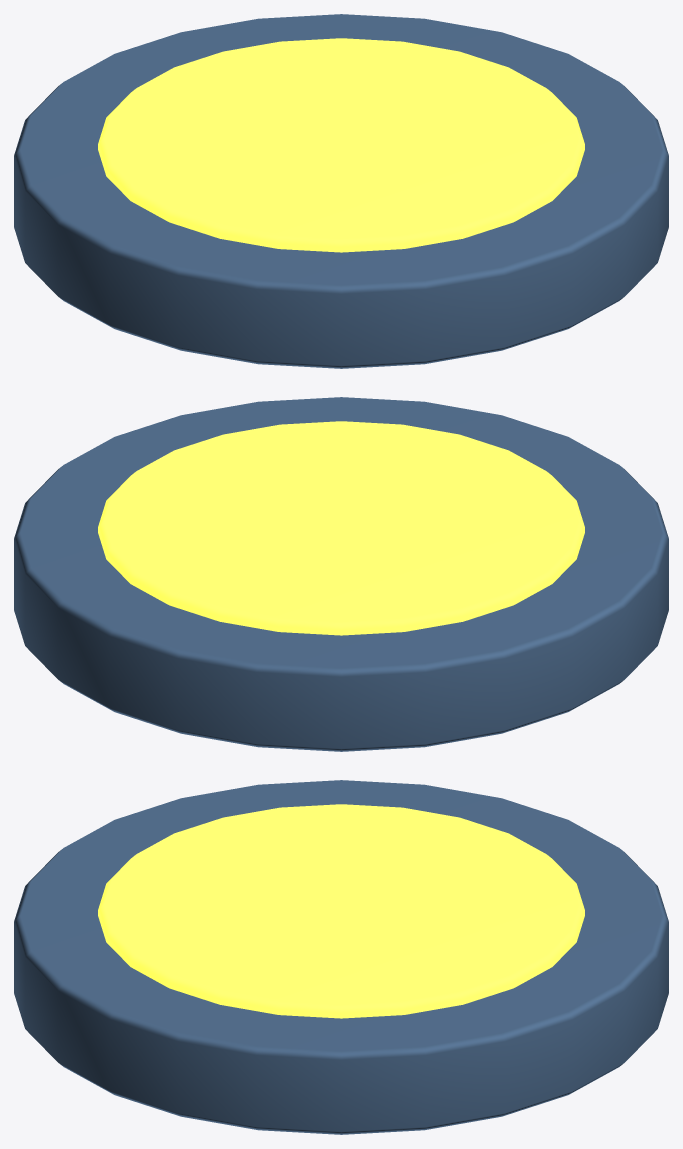
File: NT_EnergyCoin.fbx
3 renders of one model, top to bottom at view 1: azimuth 30°, elevation 25°; view 2: azimuth 150°, elevation 25°; view 3: azimuth 270°, elevation 25°, orthographic.
Parts seen in each view (by area): view 1: NT_EnergyCoin__PickupMesh; view 2: NT_EnergyCoin__PickupMesh; view 3: NT_EnergyCoin__PickupMesh.
Part boxes in pixels (x1=…): NT_EnergyCoin__PickupMesh: x1=14, y1=14, x2=668, y2=368; NT_EnergyCoin__PickupMesh: x1=14, y1=397, x2=668, y2=751; NT_EnergyCoin__PickupMesh: x1=14, y1=780, x2=668, y2=1134.
Size of the model in its own units: 0.78 by 0.125 by 0.78.
